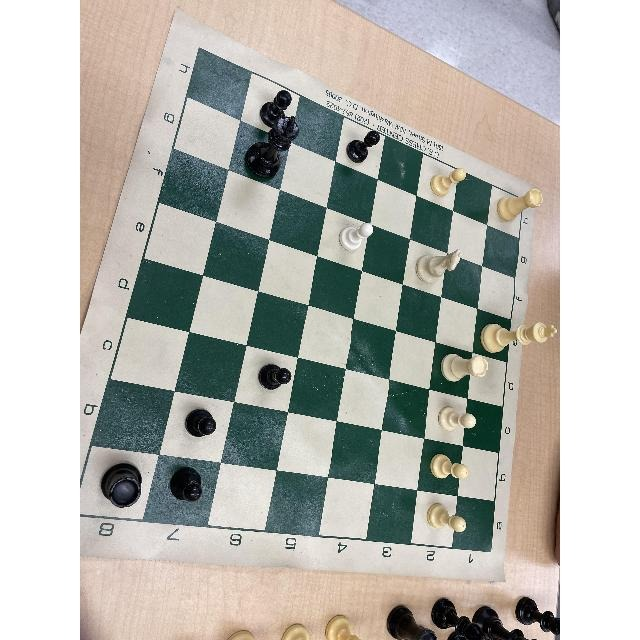black-king: (244, 114, 302, 182)
black-pawn: (343, 130, 384, 164), (170, 466, 206, 503), (260, 88, 294, 127), (185, 407, 219, 438), (256, 364, 293, 390)
black-rook: (97, 461, 145, 511)
white-king: (480, 321, 560, 354)
white-knight: (416, 249, 464, 285)
white-pawn: (428, 504, 469, 534), (429, 167, 468, 197), (338, 223, 377, 253), (437, 406, 478, 432), (433, 455, 471, 481)
white-rook: (494, 188, 546, 224), (442, 353, 492, 385)
